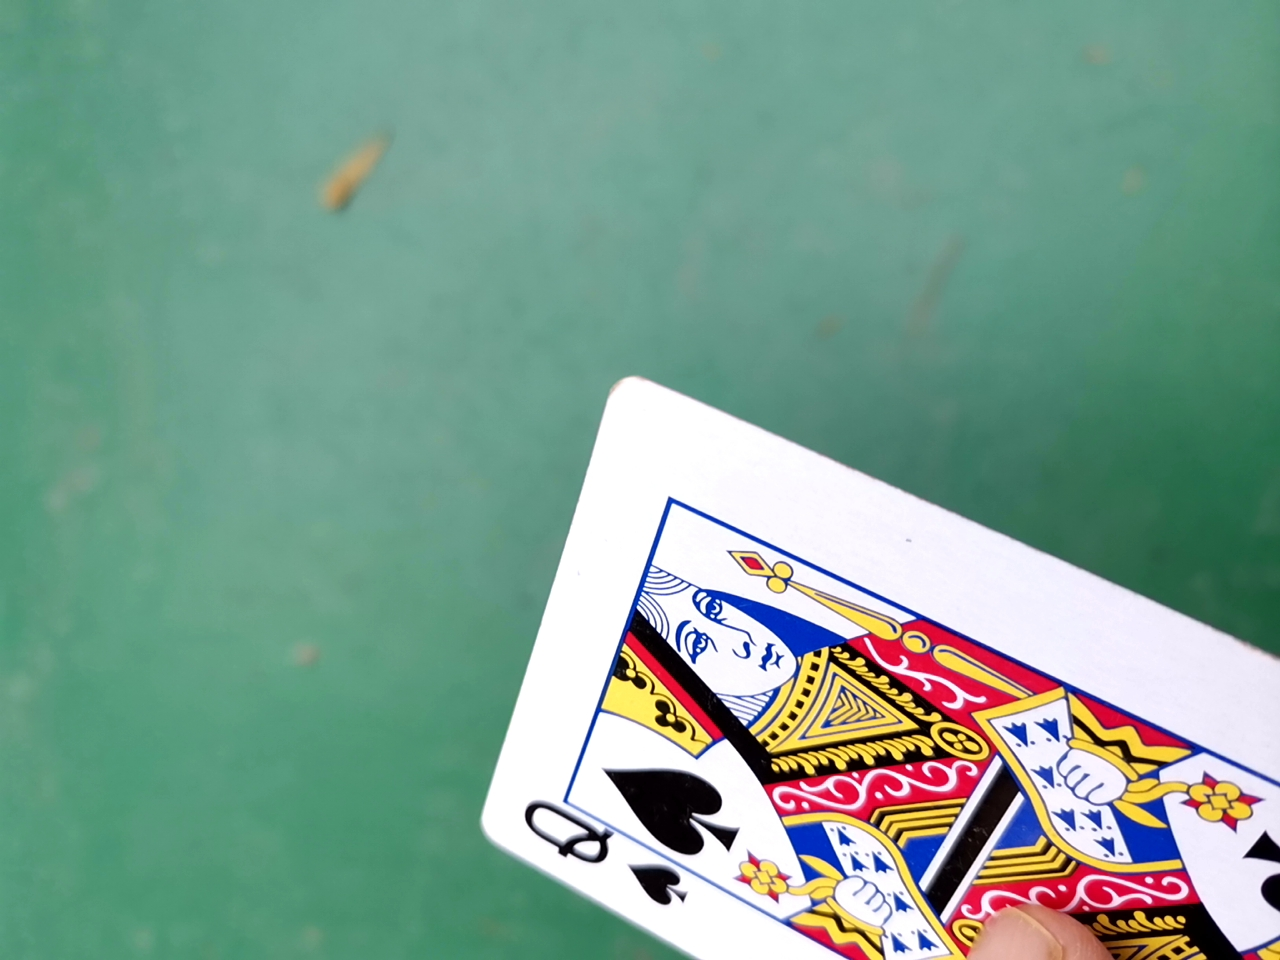ht q: (444, 361, 1270, 955)
